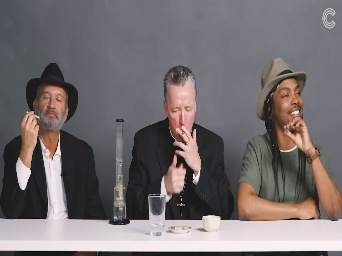smoke: (25, 109, 41, 120), (180, 127, 185, 134)
